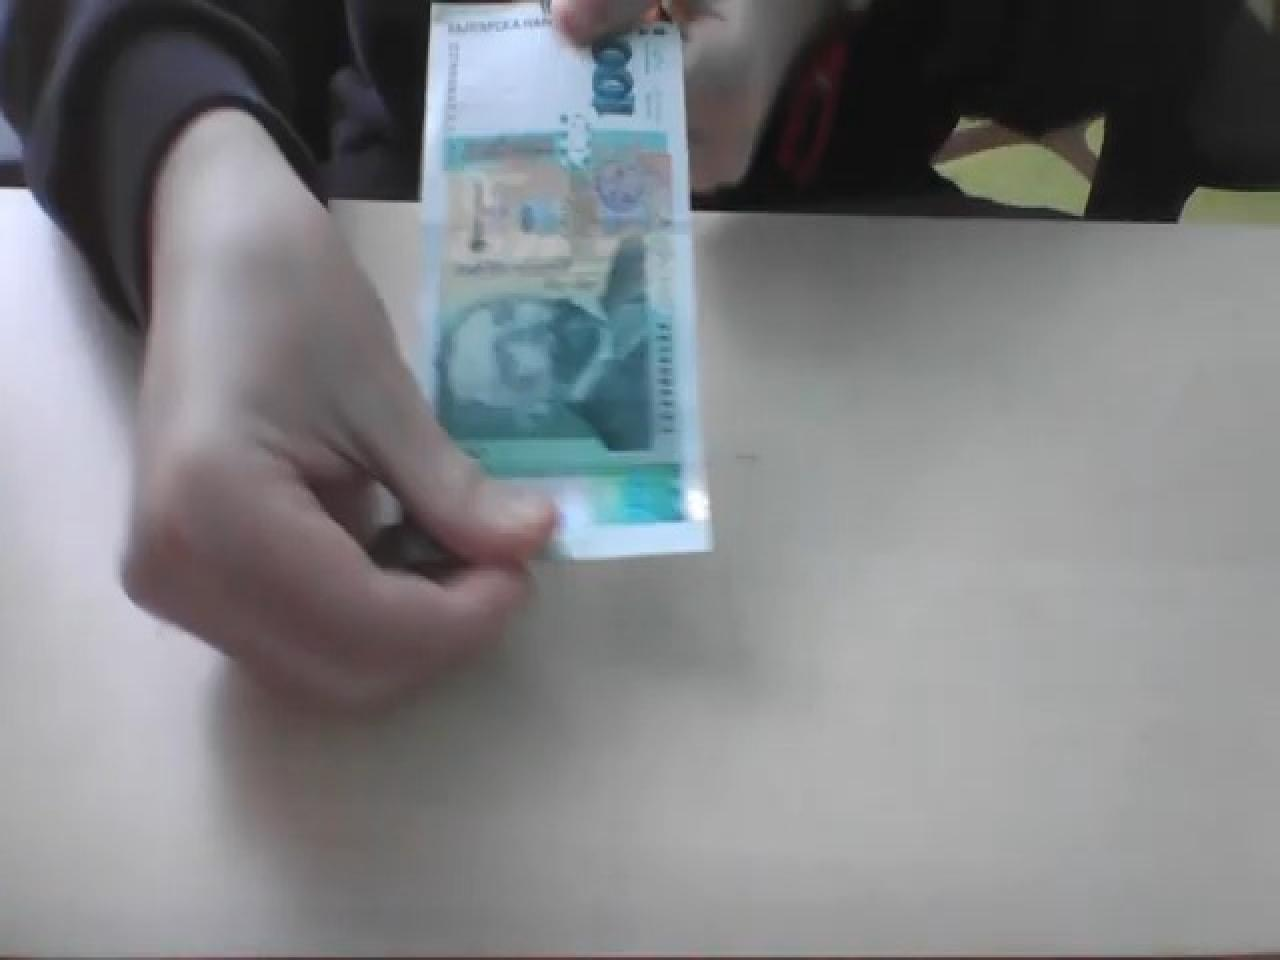100leva: (398, 0, 714, 568)
